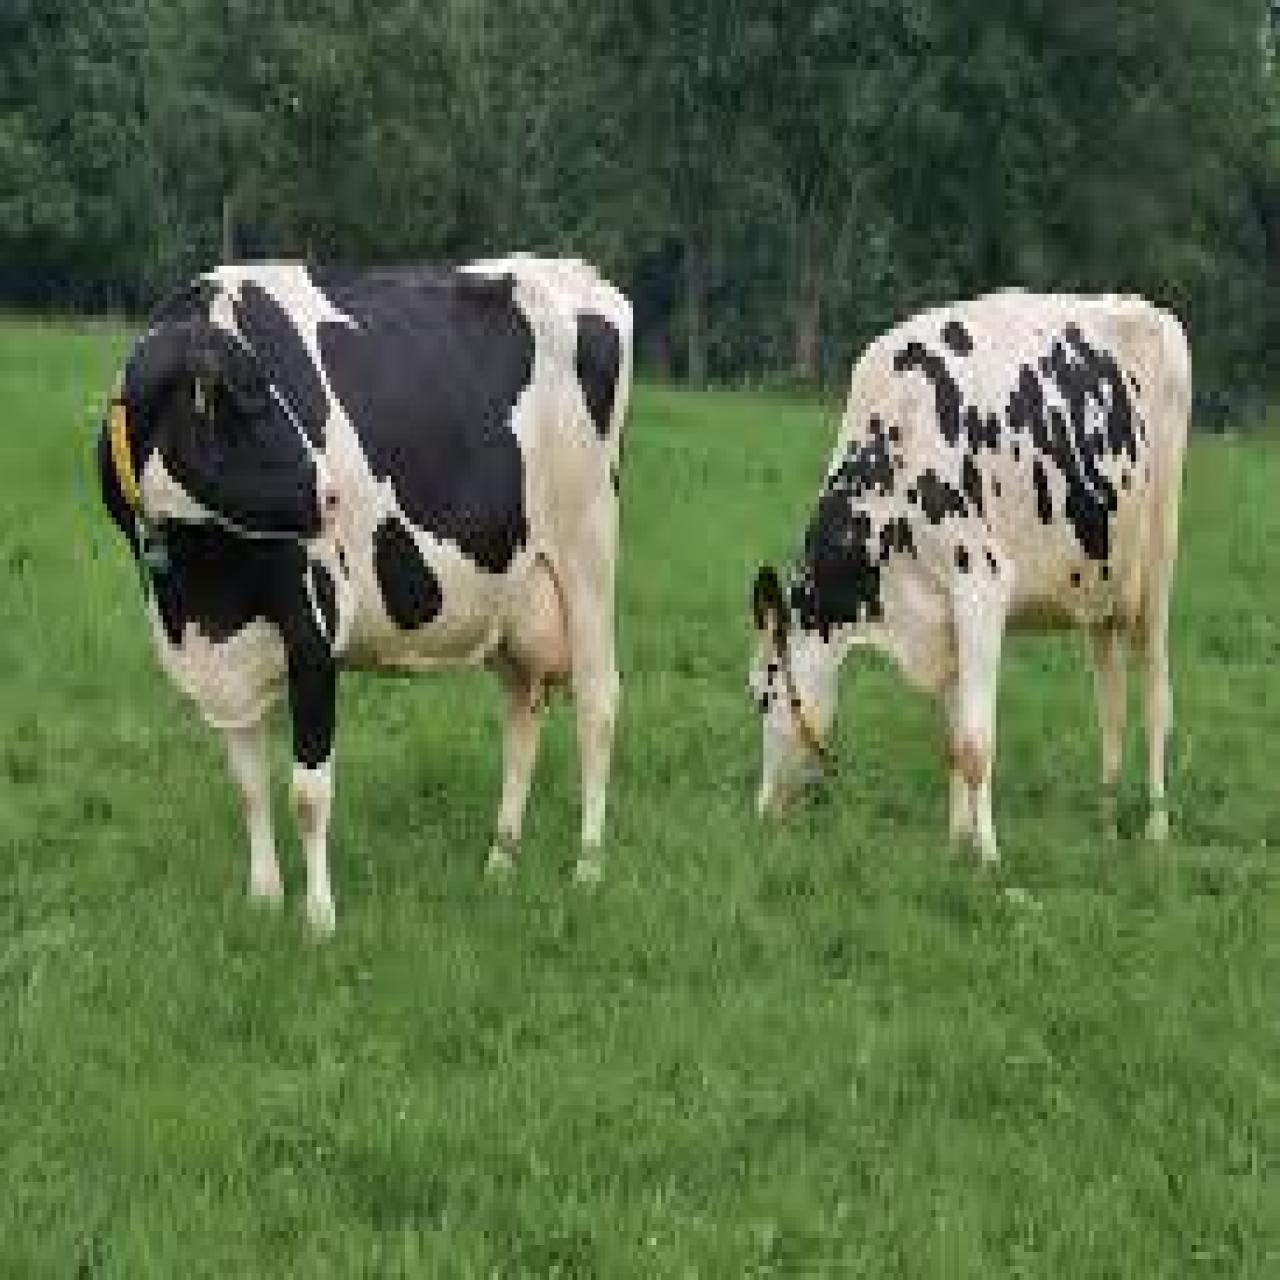cow: (93, 252, 633, 938), (747, 287, 1194, 874)
